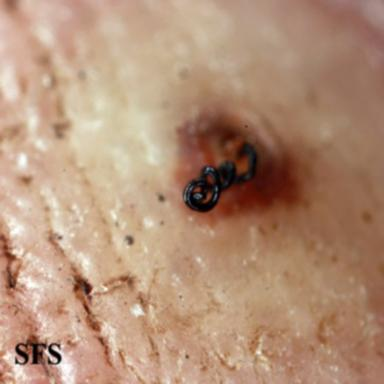Tungiasis: (75, 0, 384, 360)
